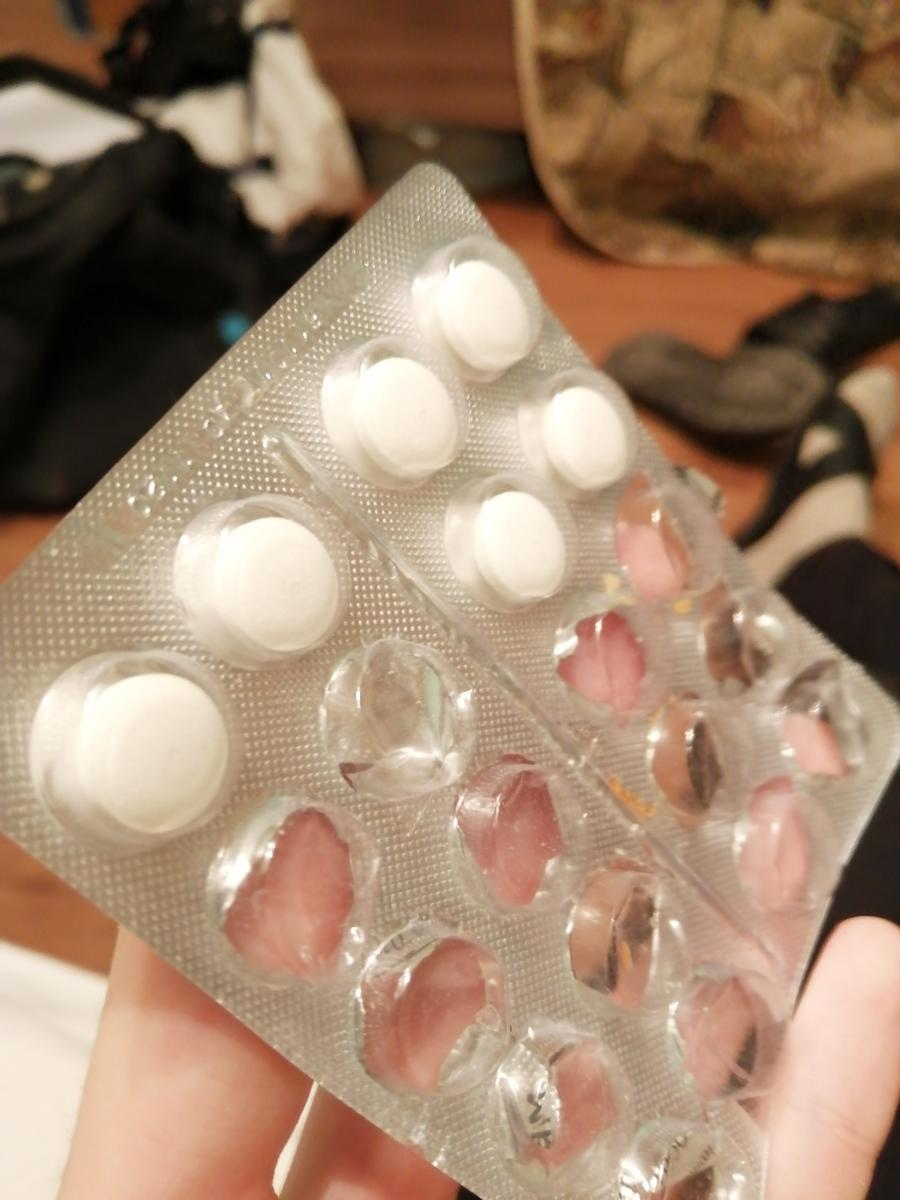tablet: (58, 661, 234, 844), (198, 502, 341, 659), (341, 345, 465, 481), (431, 245, 536, 375), (467, 487, 575, 613), (539, 383, 632, 492)
